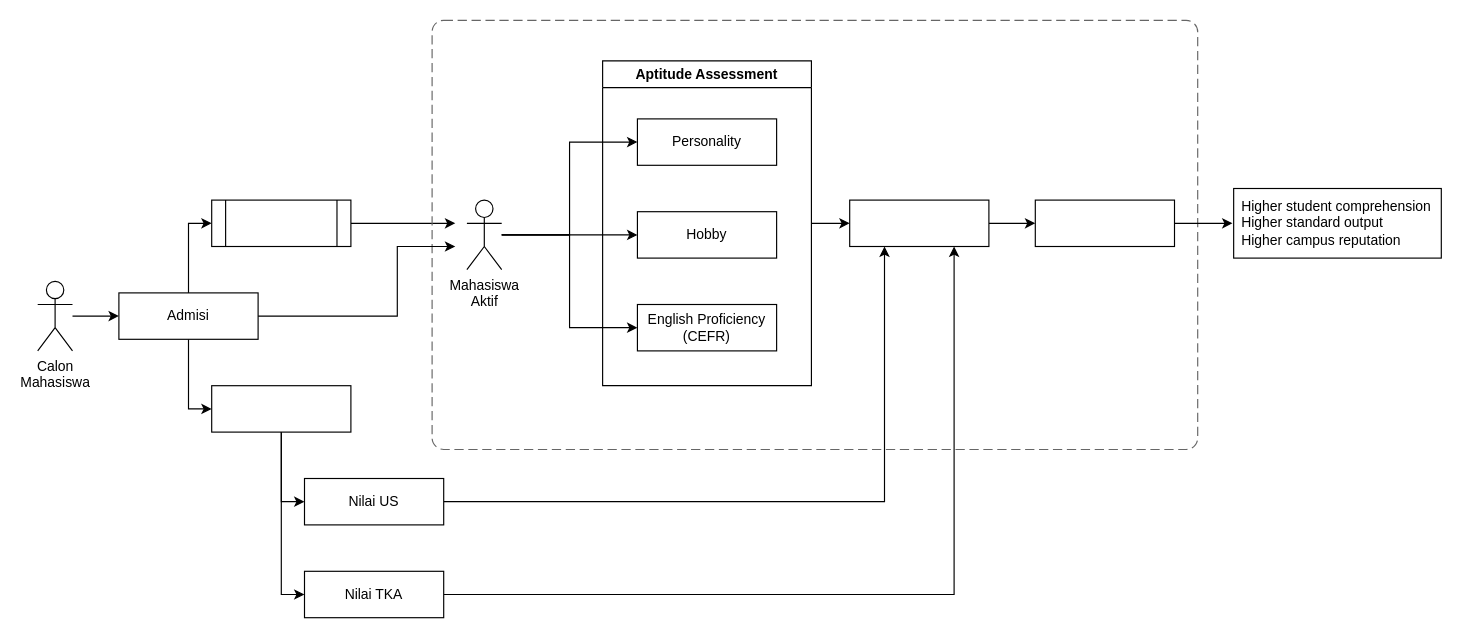
The diagram is 1462 pixels wide and 638 high, and some of its shapes have lost their labels. The box of each missing label's shape, as (x1, y1, x2, y2) in pixels:
Administrasi: (211, 199, 351, 246)
Analisis Data: (849, 199, 989, 246)
Metadata Ijazah: (211, 385, 351, 432)
Personalized Learning Experience: (1034, 199, 1174, 246)
Proses Perkuliahan [Personalized Learning]: (431, 19, 1198, 449)
